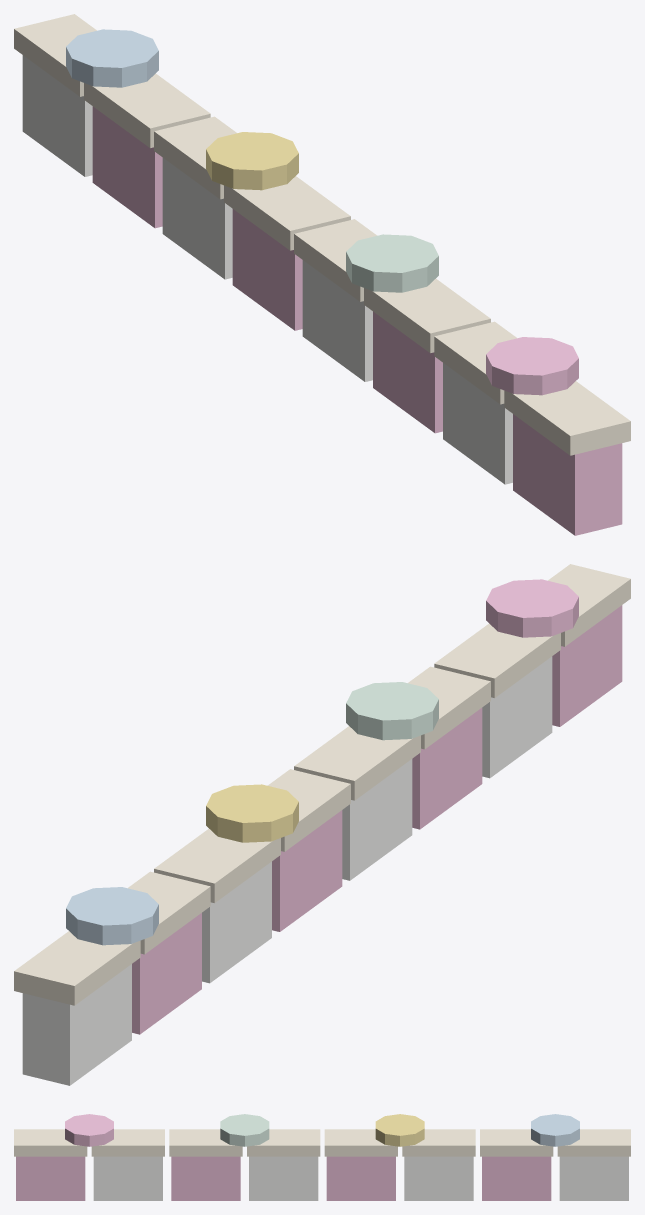
Rendered from draha_bariery.glb.
3 views of the same model, one above another, from view 1: azimuth 30°, elevation 25°; view 2: azimuth 150°, elevation 25°; view 3: azimuth 270°, elevation 25° (orthographic). The views are drawn at different scales.
Parts seen in each view (by area): view 1: DrahaBariery_cream, DrahaBariery_lol, DrahaBariery_white, DrahaBariery_blue, DrahaBariery_mint, DrahaBariery_yellow; view 2: DrahaBariery_cream, DrahaBariery_lol, DrahaBariery_white, DrahaBariery_yellow, DrahaBariery_blue, DrahaBariery_mint; view 3: DrahaBariery_lol, DrahaBariery_cream, DrahaBariery_white, DrahaBariery_mint, DrahaBariery_yellow, DrahaBariery_blue.
Boxes of the visible parts, x1=… form: DrahaBariery_cream: x1=14, y1=14, x2=630, y2=455; DrahaBariery_lol: x1=92, y1=106, x2=622, y2=535; DrahaBariery_white: x1=22, y1=55, x2=512, y2=484; DrahaBariery_blue: x1=66, y1=29, x2=158, y2=87; DrahaBariery_mint: x1=346, y1=234, x2=438, y2=292; DrahaBariery_yellow: x1=206, y1=132, x2=298, y2=190; DrahaBariery_cream: x1=14, y1=564, x2=630, y2=1005; DrahaBariery_lol: x1=132, y1=579, x2=622, y2=1034; DrahaBariery_white: x1=22, y1=656, x2=552, y2=1085; DrahaBariery_yellow: x1=206, y1=784, x2=298, y2=842; DrahaBariery_blue: x1=66, y1=887, x2=158, y2=945; DrahaBariery_mint: x1=346, y1=682, x2=438, y2=740; DrahaBariery_lol: x1=16, y1=1114, x2=551, y2=1200; DrahaBariery_cream: x1=14, y1=1129, x2=630, y2=1156; DrahaBariery_white: x1=93, y1=1156, x2=628, y2=1200; DrahaBariery_mint: x1=220, y1=1114, x2=269, y2=1146; DrahaBariery_yellow: x1=375, y1=1114, x2=424, y2=1146; DrahaBariery_blue: x1=531, y1=1114, x2=579, y2=1146.
Bounding box in the file's own units: 0.6 × 0.89 × 7.15.
